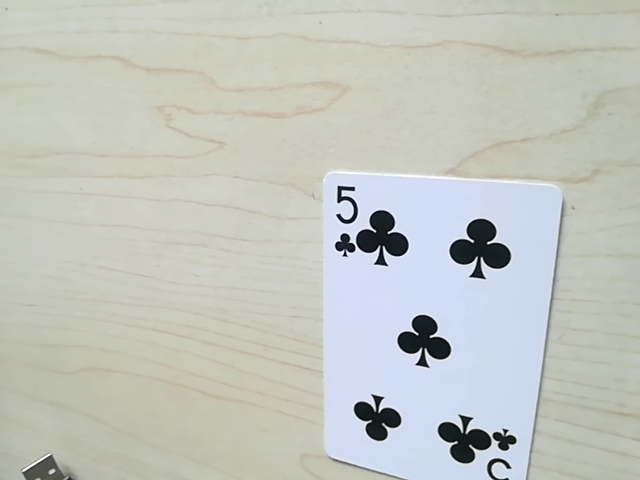mh 5: (326, 178, 373, 260), (474, 431, 522, 479)
